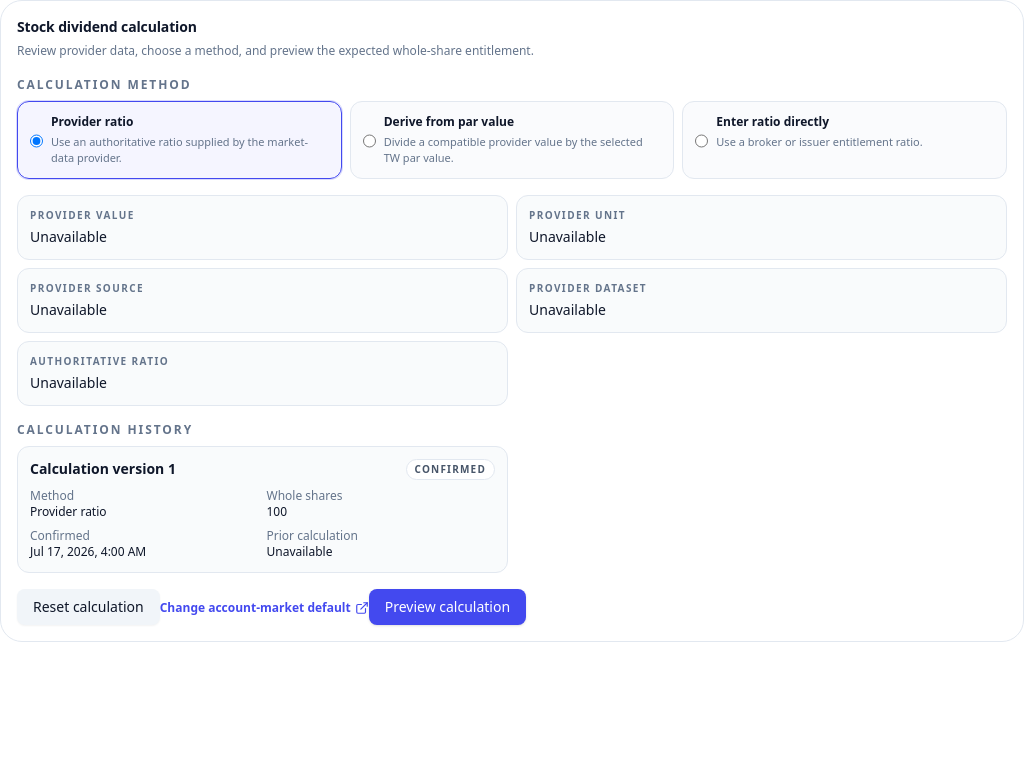
Test case: DividendCalculationPanel › resets an existing calculation without requiring a new preview
Click the button with test id "dividend-calculation-reset". click: click(88, 607)
box: top-left (17, 589), bottom-right (160, 625)
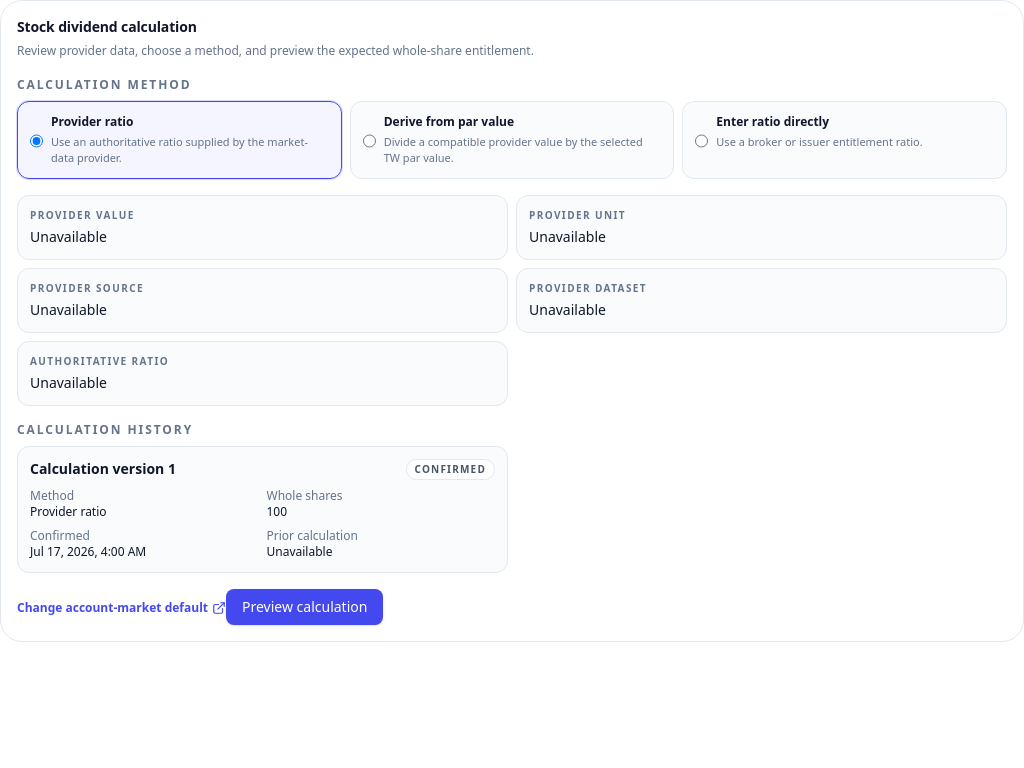
Expected: the element with test id "dividend-calculation-history" is shown, top-left (17, 421), bottom-right (508, 573)
Now the button with test id "dividend-calculation-reset" is gone
